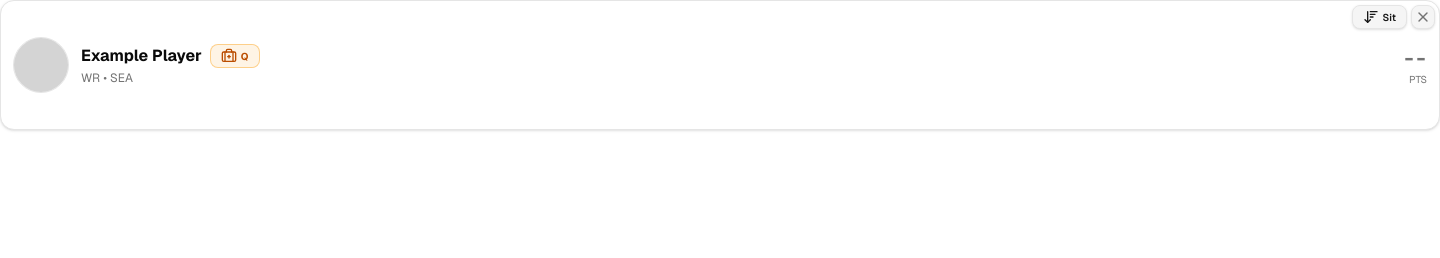
Test: PlayerCard › does not repeat status-only injury comments
Click the button named "questionable updates for Example Player" at [235, 56], box [210,44,260,68]
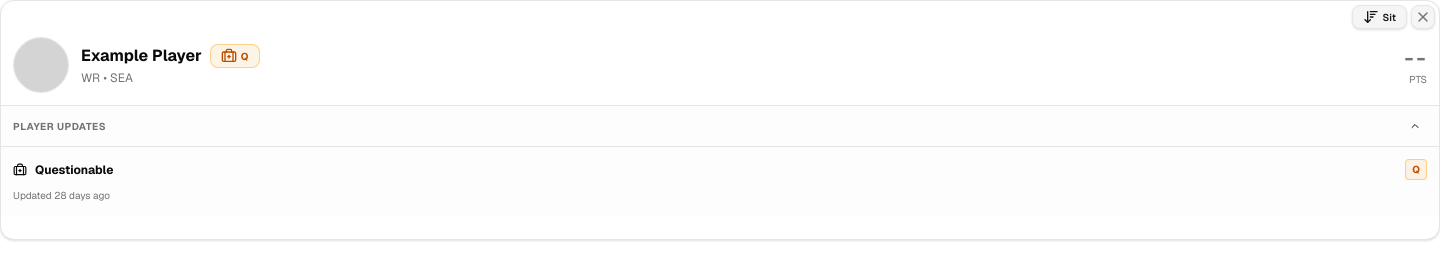
Check: the number of headings "questionable" is 1, box [35,162,114,178]
